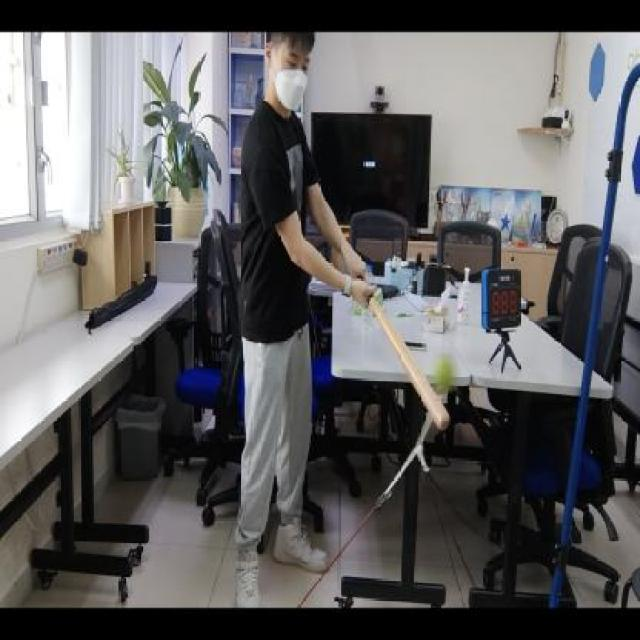baseball: (429, 345, 460, 397)
